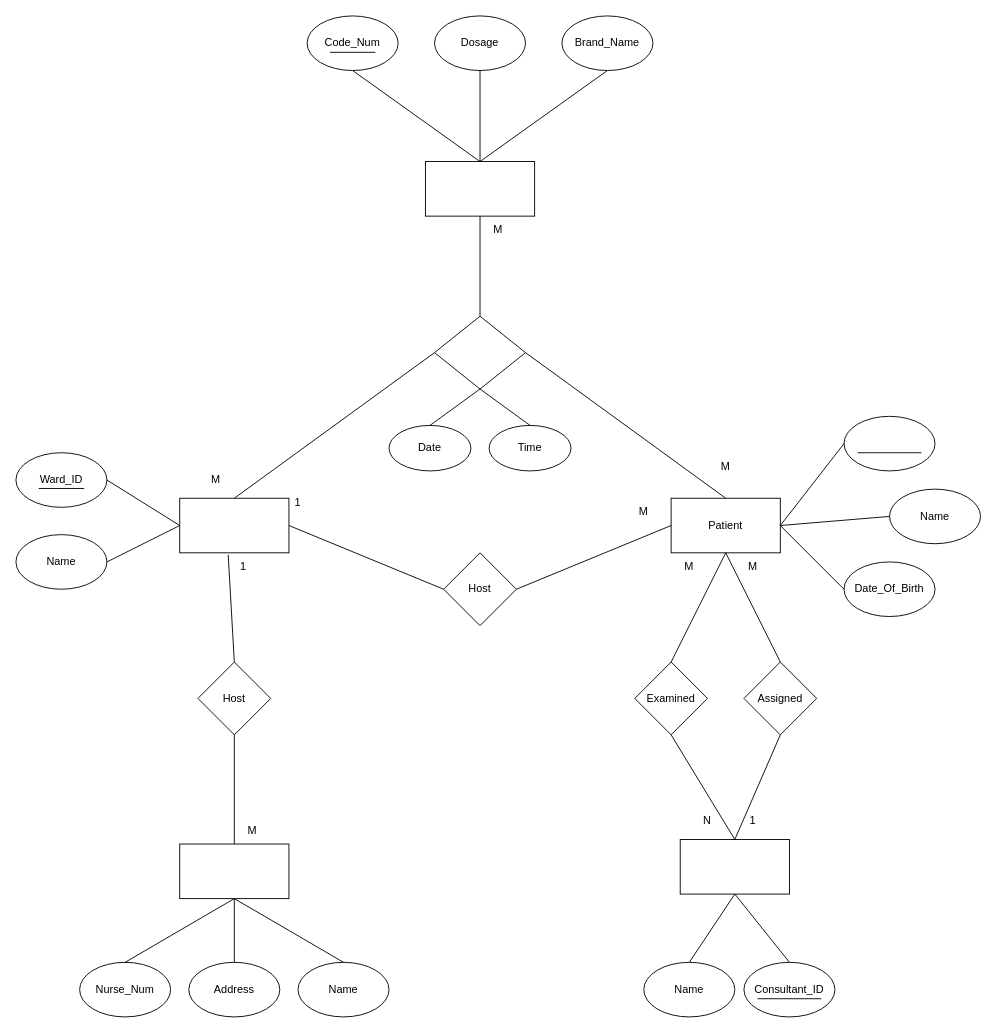
Some shapes in this 996 by 1033 pixel diagram are drawn without their labels. The box of each missing label's shape, as (x1, y1, x2, y2) in pixels:
Consultant: (679, 839, 789, 894)
Drug: (425, 161, 535, 216)
Nurse: (179, 843, 289, 899)
Patient_ID: (843, 415, 935, 471)
Relationship: (434, 315, 526, 389)
Ward: (179, 497, 289, 553)
